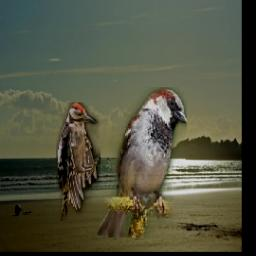Sparrow: (98, 88, 188, 239)
Woodpecker: (57, 102, 101, 221)
